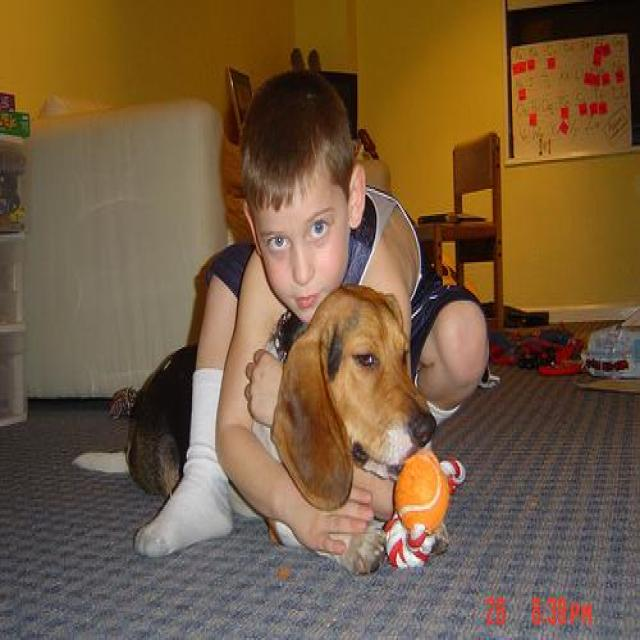beagle: (123, 286, 452, 578)
